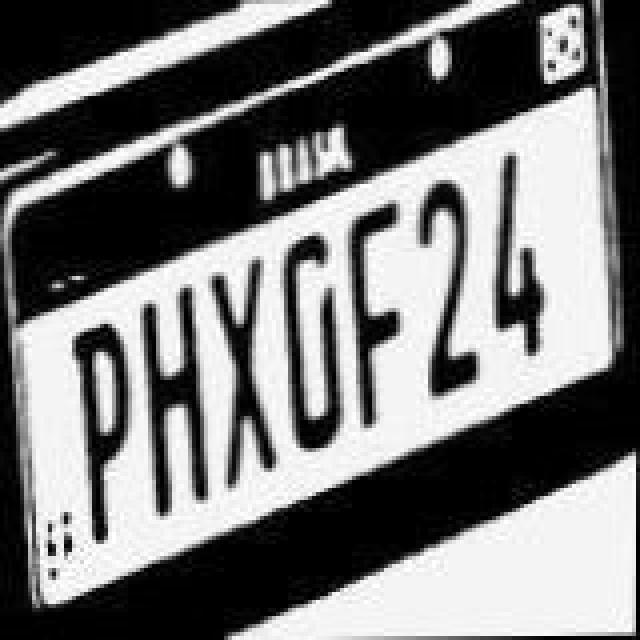2: (412, 178, 480, 402)
4: (486, 152, 546, 360)
D: (278, 230, 342, 450)
F: (344, 202, 404, 438)
H: (142, 286, 210, 518)
P: (70, 322, 138, 542)
X: (208, 256, 276, 492)
